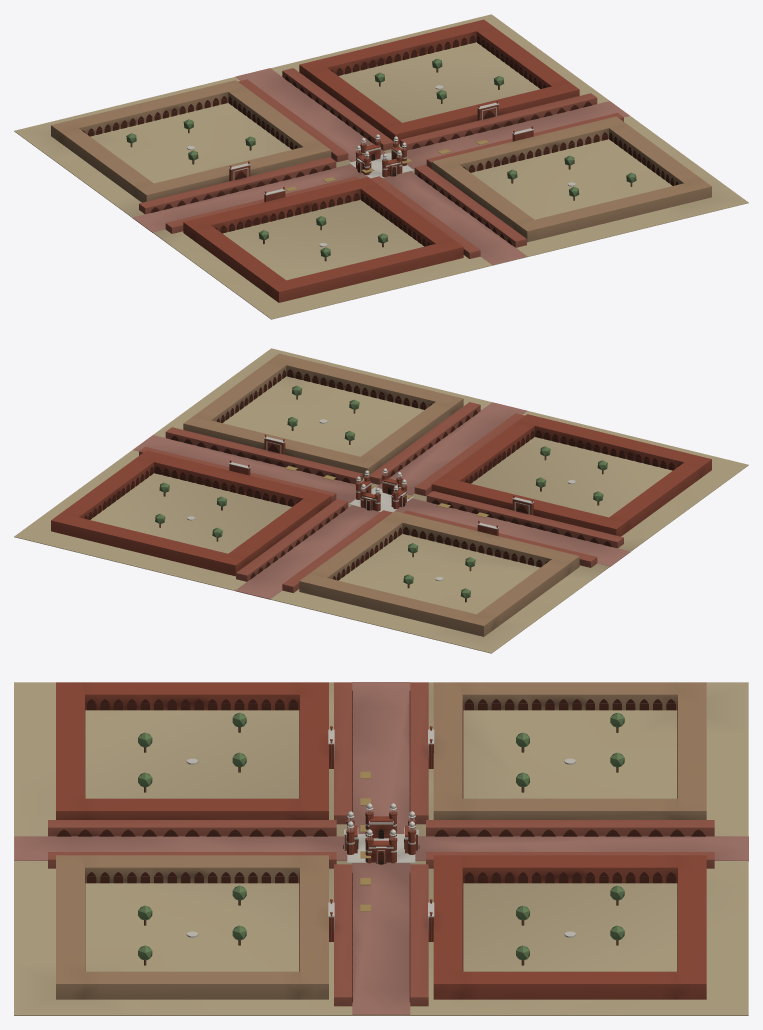
File: taj-ganj.glb
3 views of the same model, one above another, from view 1: azimuth 30°, elevation 25°; view 2: azimuth 150°, elevation 25°; view 3: azimuth 270°, elevation 25° (orthographic). The views are drawn at different scales.
Visible parts, largest first — view 1: p0_sarais, p1_gates, p2_chowk; view 2: p0_sarais, p1_gates, p2_chowk; view 3: p0_sarais, p1_gates, p2_chowk.
Boxes of the visible parts, x1,y1,x2,y2 form: p0_sarais: (14,14,748,319); p1_gates: (139,68,623,258); p2_chowk: (285,134,488,191); p0_sarais: (14,348,748,653); p1_gates: (139,402,623,592); p2_chowk: (285,465,488,517); p0_sarais: (14,682,748,1015); p1_gates: (48,682,714,1006); p2_chowk: (343,771,419,911).
Size of the model in its own units: 300 by 14.29 by 280.
